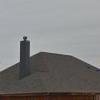Chimney: (14, 29, 38, 82)
